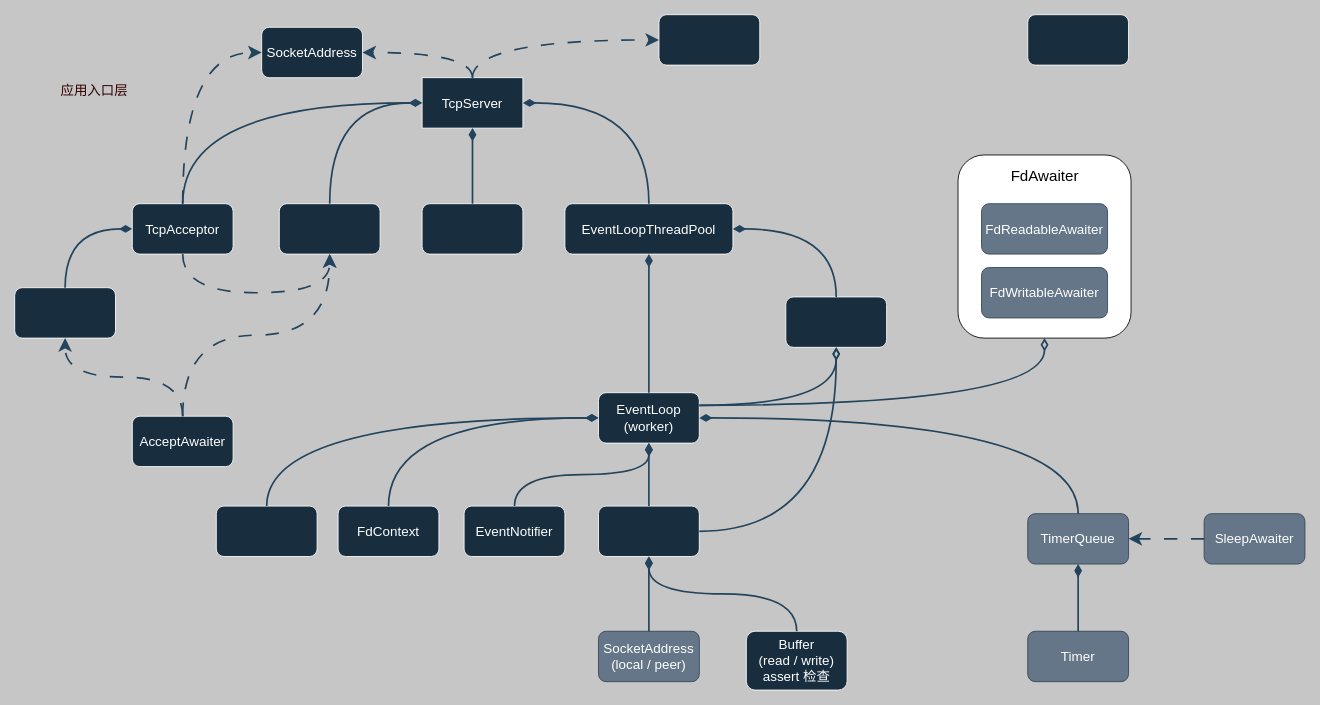
Image size: 1320x705. Some labels were removed from this diagram. Here are the shapes that lost their labels. From the top down, the centre of each, then its label:
the point at 709,39: Task<T>
the point at 1078,39: Result<T, E>
the point at 329,228: EventLoop (main)
the point at 472,228: IoLoopSelector
the point at 65,312: TcpSocket
the point at 836,321: TcpSession
the point at 266,530: Epoller
the point at 648,530: TcpConnection
